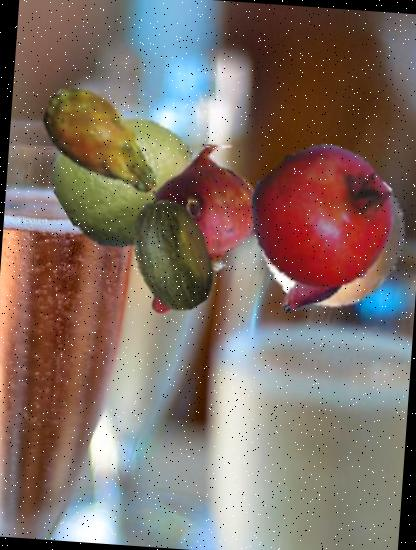Cactus: (30, 71, 176, 217)
Kumquats: (254, 156, 412, 314)
Limes: (52, 103, 201, 252)
Melon: (112, 194, 234, 316)
Onion: (130, 138, 278, 286)
Pomegranate: (245, 141, 400, 296)
Salak: (270, 229, 369, 328)
Strawberry: (145, 262, 205, 322)
